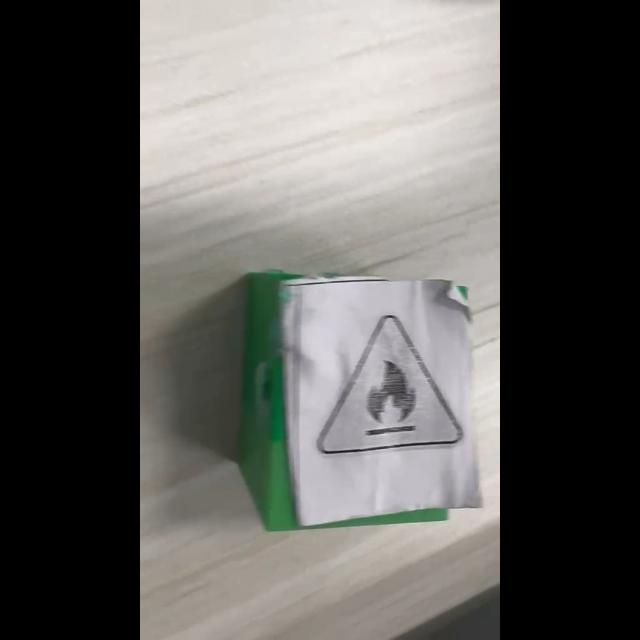Fire: (321, 314, 463, 454)
